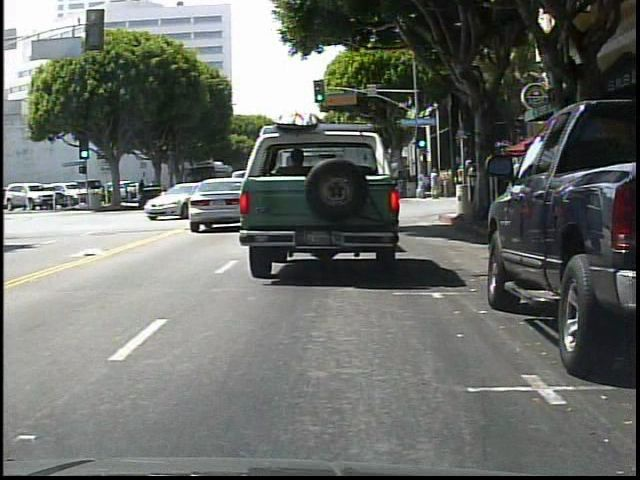person: (430, 166, 441, 198), (442, 166, 453, 197), (417, 169, 427, 198)
